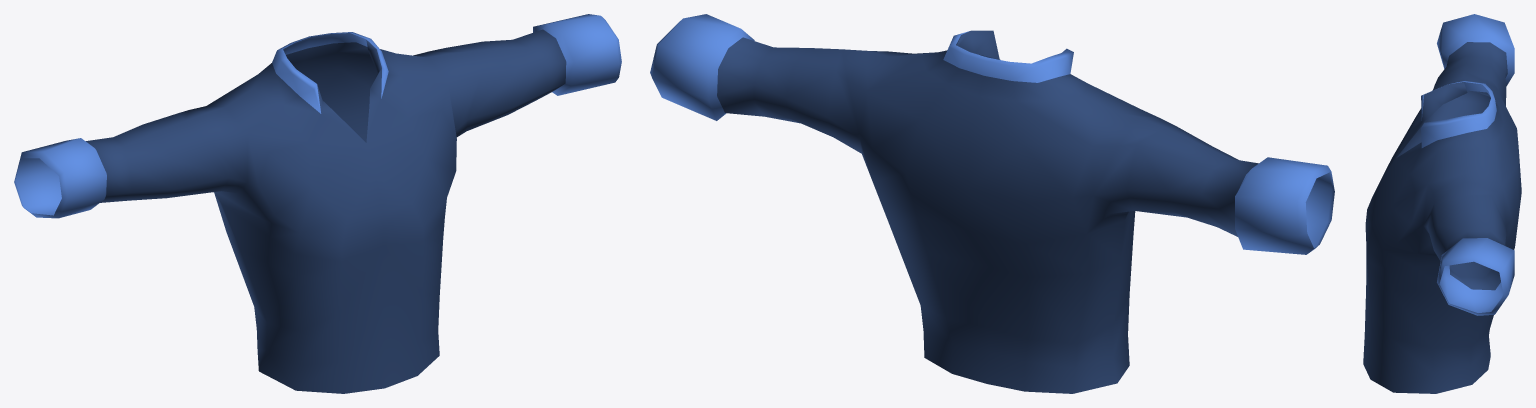
Rendered from ShirtM_01.fbx.
The picture shows the model from 3 angles, left to right: view 1: azimuth 30°, elevation 25°; view 2: azimuth 150°, elevation 25°; view 3: azimuth 270°, elevation 25°; orthographic projection. The views are drawn at different scales.
Parts seen in each view (by area): view 1: ShirtM_01; view 2: ShirtM_01; view 3: ShirtM_01.
Part boxes in pixels (x1,y1,x2,y2): ShirtM_01: (14, 14, 621, 393); ShirtM_01: (650, 14, 1334, 393); ShirtM_01: (1363, 14, 1521, 393).
Size of the model in its own units: 104 by 51.12 by 27.71.
